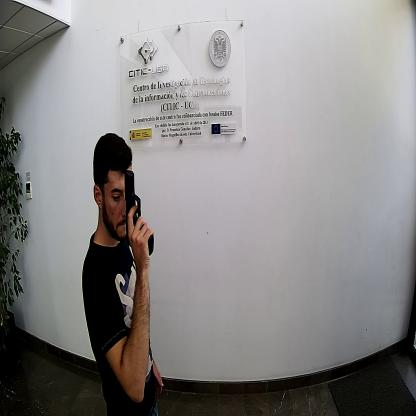pistol: (124, 168, 154, 256)
